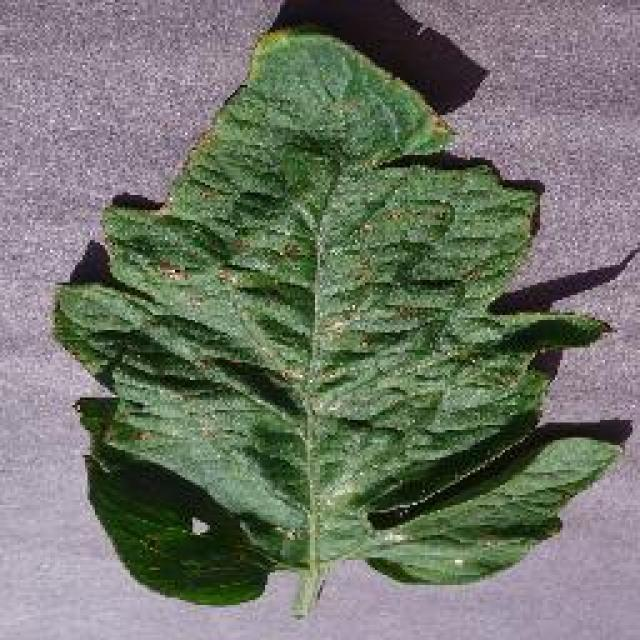Tomato Septoria spot leaf: (55, 21, 617, 609)
